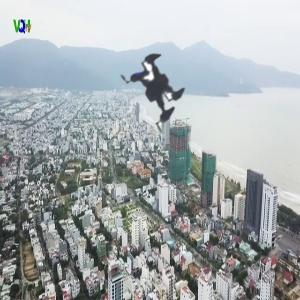drone: (91, 22, 224, 155)
